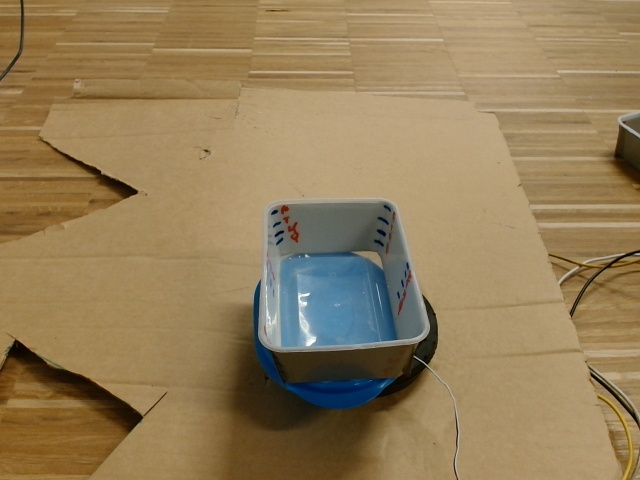Small_zero: (257, 198, 430, 354)
